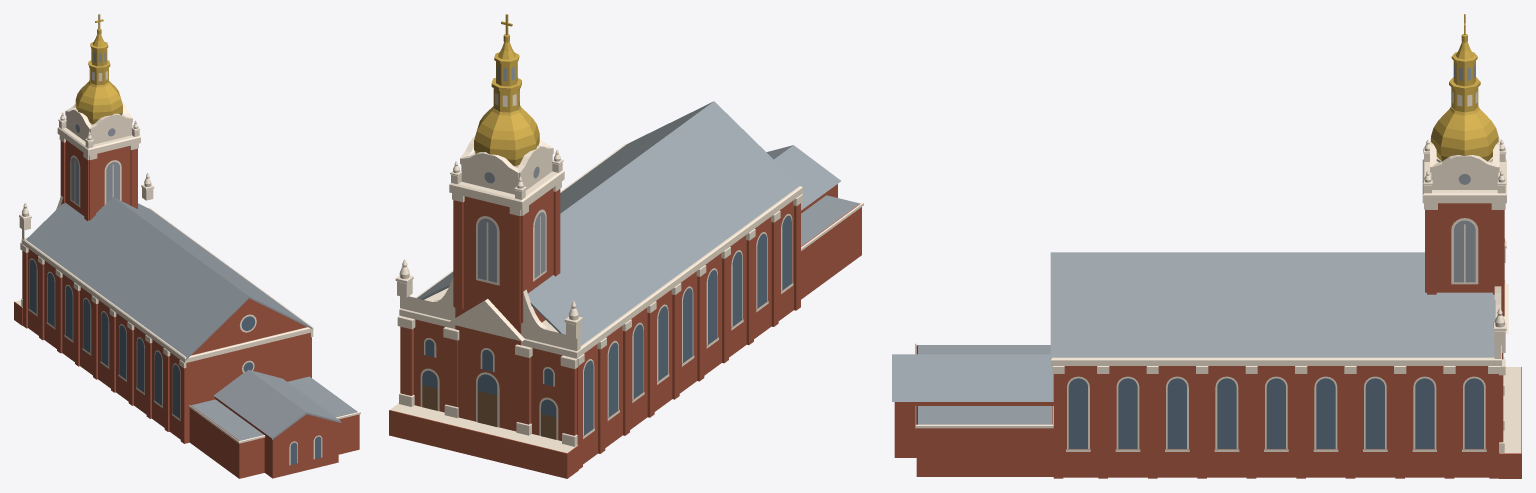
Rendered from kc-cathedral-immaculate-conception.glb.
3 renders of one model, left to right at view 1: azimuth 30°, elevation 25°; view 2: azimuth 150°, elevation 25°; view 3: azimuth 270°, elevation 25°, orthographic. The views are drawn at different scales.
Visible parts, largest first — view 1: Cathedral of the Immaculate Conception; view 2: Cathedral of the Immaculate Conception; view 3: Cathedral of the Immaculate Conception.
Boxes of the visible parts, x1,y1,x2,y2 form: Cathedral of the Immaculate Conception: (14, 14, 360, 478); Cathedral of the Immaculate Conception: (389, 14, 863, 478); Cathedral of the Immaculate Conception: (892, 14, 1521, 478).
Bounding box in the file's own units: 23.71 × 52.9 × 71.7.
